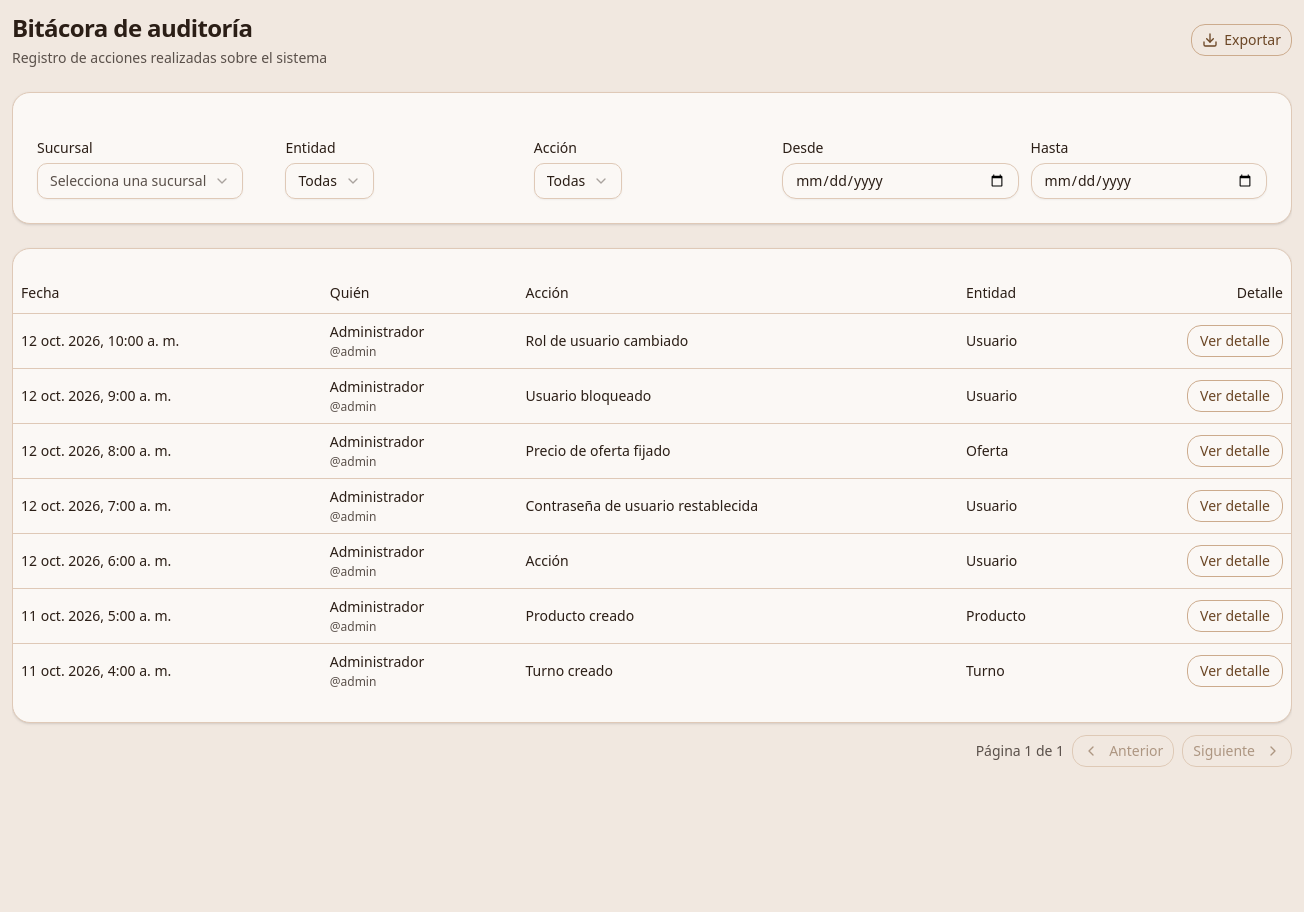
Test: Bitácora de auditoría › filtra por entidad
The width and height of the screenshot is (1304, 912).
Check: the text "Rol de usuario cambiado" is shown, box [518,313,958,368]
What coordinates should you click on to do the following:
click the dropdown named "Entidad"
I would click on:
 (330, 181)
Its box is [285,163,374,199].
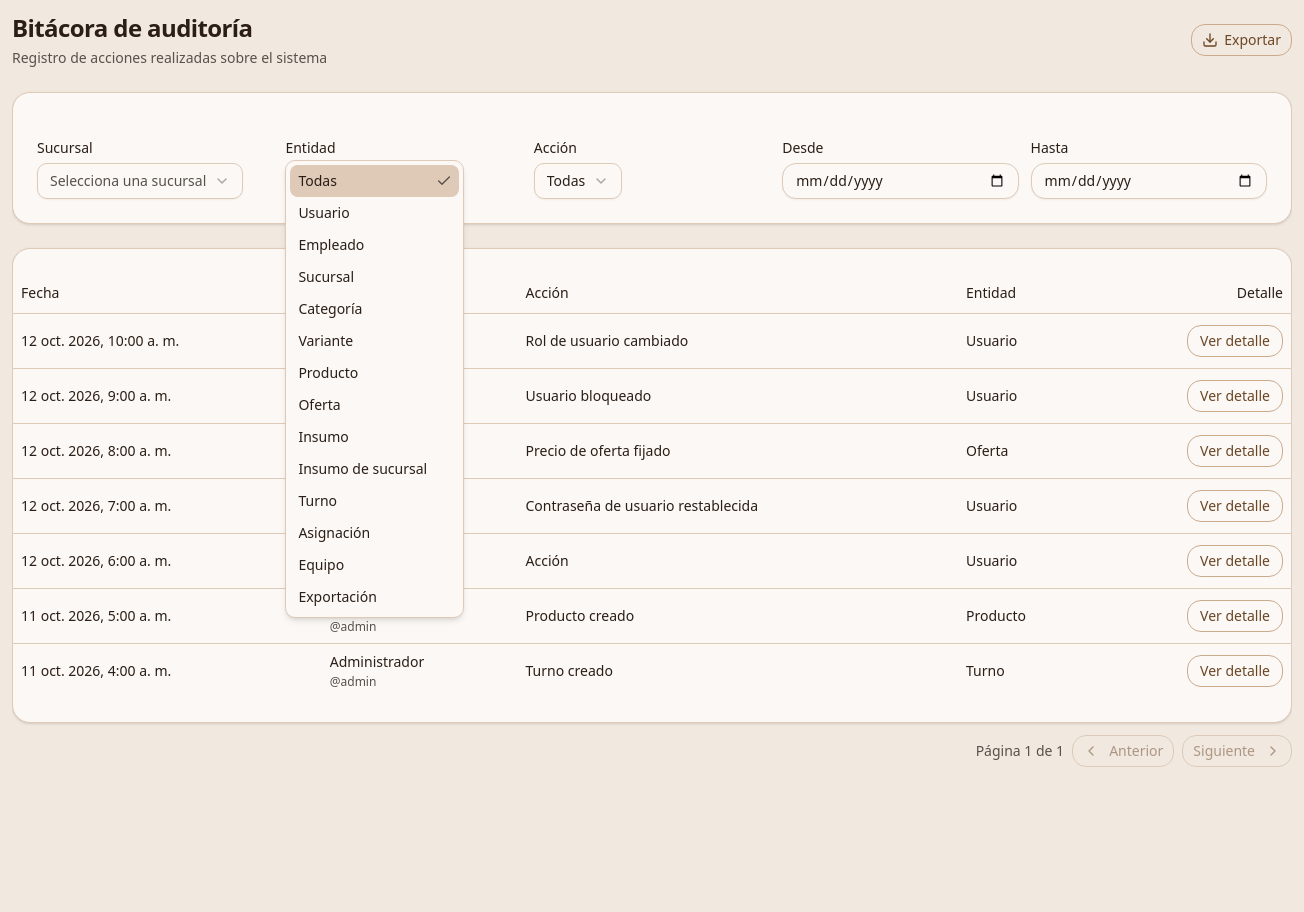
What coordinates should you click on to do the following:
click the option "Producto"
I would click on:
 (328, 372)
Its box is [298,363,358,382].
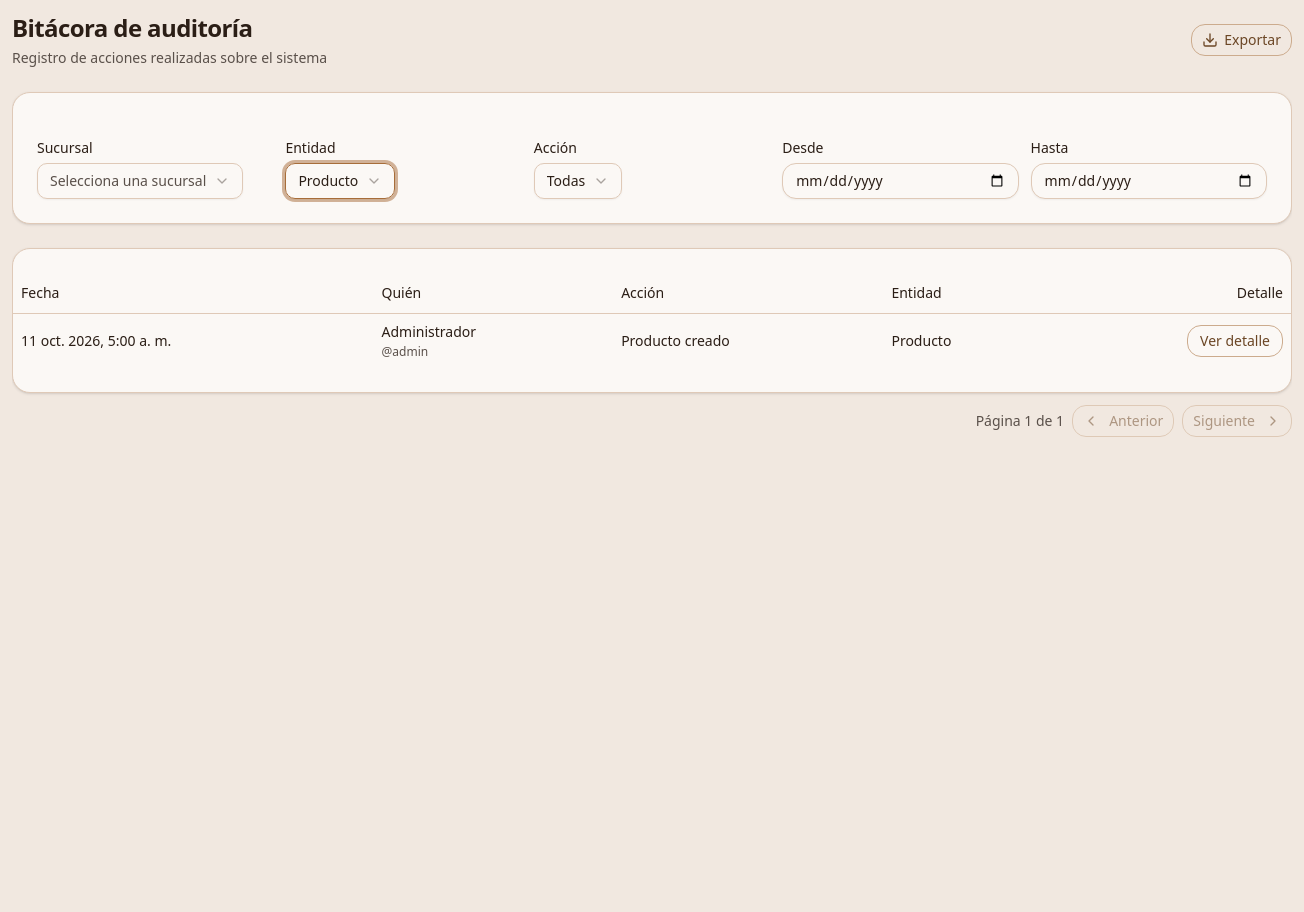
Check: the text "Producto creado" is shown, box [613,313,883,368]
Check: the text "Rol de usuario cambiado" is gone
